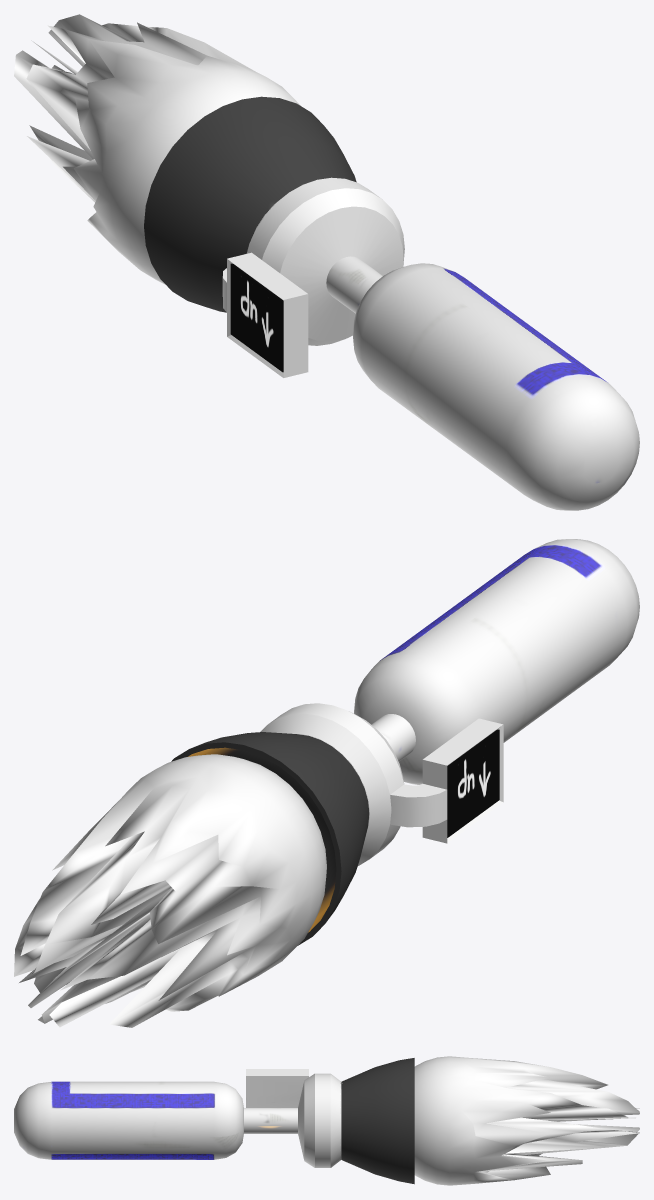
Rendered from thruster.gltf.
3 renders of one model, top to bottom at view 1: azimuth 30°, elevation 25°; view 2: azimuth 150°, elevation 25°; view 3: azimuth 270°, elevation 25°, orthographic. The views are drawn at different scales.
Parts seen in each view (by area): view 1: Truster, Flame, Display; view 2: Truster, Flame, Display; view 3: Truster, Flame.
Boxes of the visible parts, left/top/right/bottom form: Truster: left=144, top=96, right=639, bottom=510; Flame: left=14, top=14, right=300, bottom=284; Display: left=230, top=263, right=283, bottom=372; Truster: left=171, top=539, right=639, bottom=945; Flame: left=14, top=754, right=326, bottom=1027; Display: left=447, top=729, right=499, bottom=837; Truster: left=14, top=1058, right=414, bottom=1184; Flame: left=414, top=1056, right=639, bottom=1185.
Size of the model in its own units: 0.2745 by 0.2618 by 1.26.
Materials: 3 (2 with a texture image).
